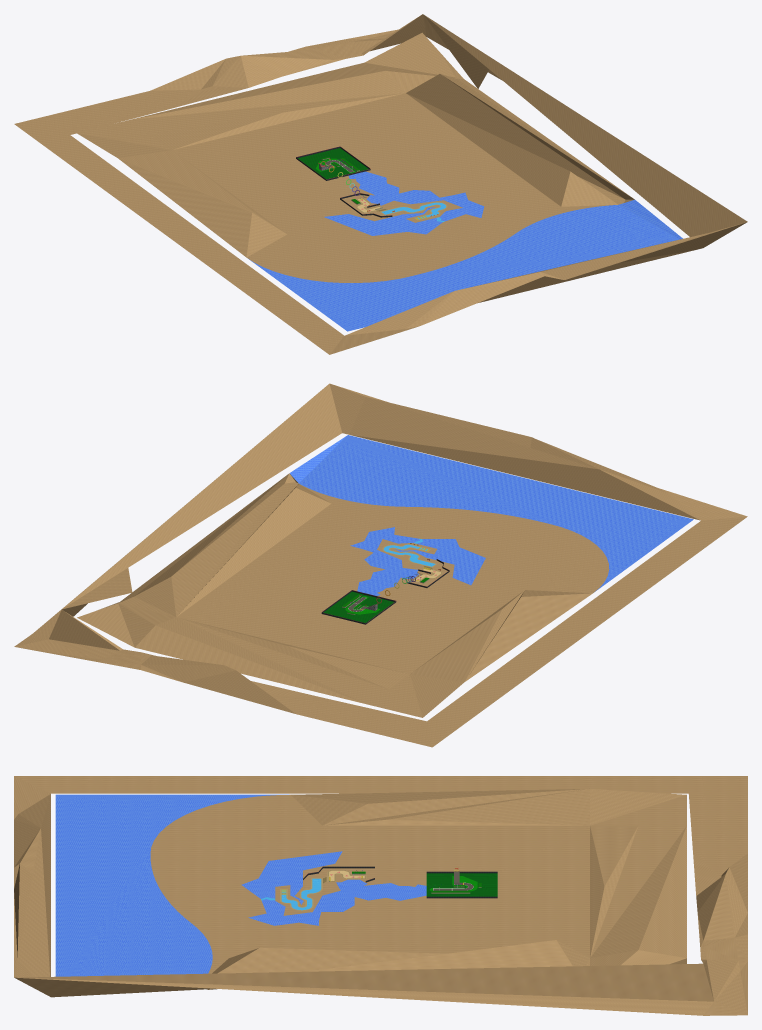
The picture shows the model from 3 angles, top to bottom: view 1: azimuth 30°, elevation 25°; view 2: azimuth 150°, elevation 25°; view 3: azimuth 270°, elevation 25°; orthographic projection. The views are drawn at different scales.
Parts seen in each view (by area): view 1: NewDec_Main-Sand, NewDec_Main-Water_Distant, NewDec_Main-Grass_Death; view 2: NewDec_Main-Sand, NewDec_Main-Water_Distant, NewDec_Main-Grass_Death; view 3: NewDec_Main-Sand, NewDec_Main-Water_Distant, NewDec_Main-Grass_Death, NewDec_Main-Fenceshitbro_FuckyouD, NewDec_Main-WaterDrive, NewDec_Main-SandOffroad.
Part boxes in pixels (bbox=[...]): NewDec_Main-Sand: bbox=[14, 14, 747, 354]; NewDec_Main-Water_Distant: bbox=[249, 171, 682, 331]; NewDec_Main-Grass_Death: bbox=[298, 148, 368, 179]; NewDec_Main-Sand: bbox=[14, 383, 747, 747]; NewDec_Main-Water_Distant: bbox=[289, 435, 693, 595]; NewDec_Main-Grass_Death: bbox=[323, 591, 393, 622]; NewDec_Main-Sand: bbox=[14, 776, 747, 1015]; NewDec_Main-Water_Distant: bbox=[55, 794, 426, 976]; NewDec_Main-Grass_Death: bbox=[426, 873, 497, 896]; NewDec_Main-Fenceshitbro_FuckyouD: bbox=[303, 866, 497, 898]; NewDec_Main-WaterDrive: bbox=[261, 878, 321, 910]; NewDec_Main-SandOffroad: bbox=[280, 870, 366, 910].
Bounding box in the file's own units: 293883 × 22046 × 383809.
Materials: 35 (35 with a texture image).
